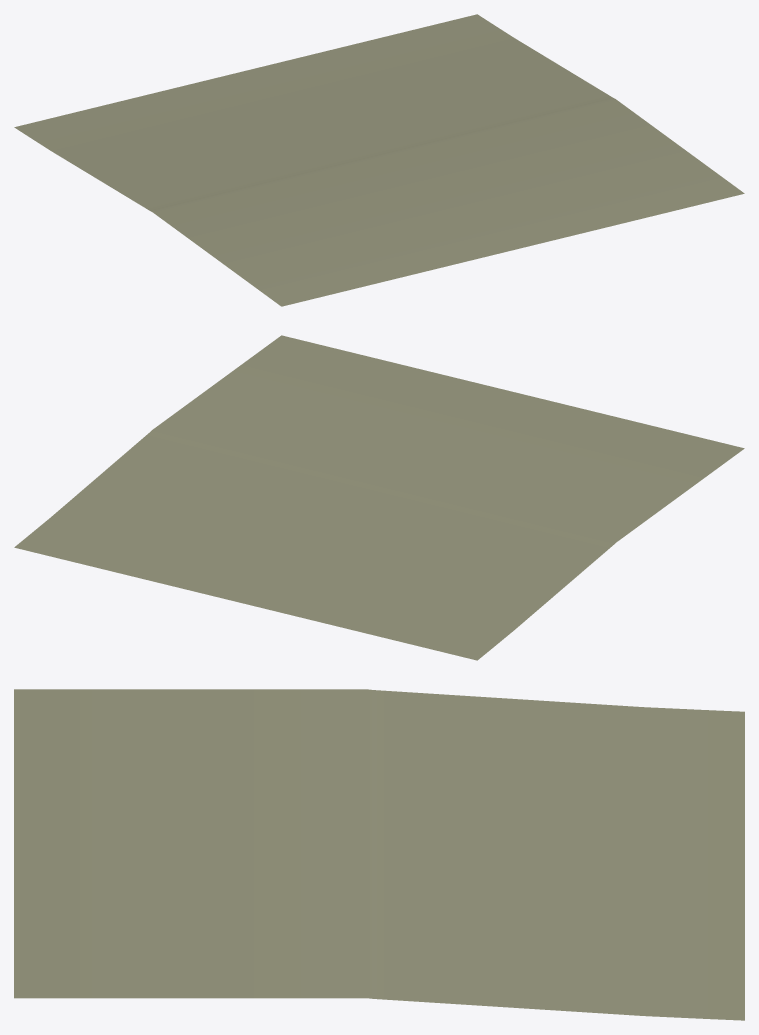
Rendered from SM_VB_CityTerrain_7_2.fbx.
3 renders of one model, top to bottom at view 1: azimuth 30°, elevation 25°; view 2: azimuth 150°, elevation 25°; view 3: azimuth 270°, elevation 25°, orthographic. The views are drawn at different scales.
Visible parts, largest first — view 1: SM_VB_CityTerrain_7_2; view 2: SM_VB_CityTerrain_7_2; view 3: SM_VB_CityTerrain_7_2.
Part boxes in pixels (x1,y1,x2,y2): SM_VB_CityTerrain_7_2: (14,14,744,306); SM_VB_CityTerrain_7_2: (14,335,744,660); SM_VB_CityTerrain_7_2: (14,689,744,1020).
Bounding box in the file's own units: 600 × 20.29 × 600.
